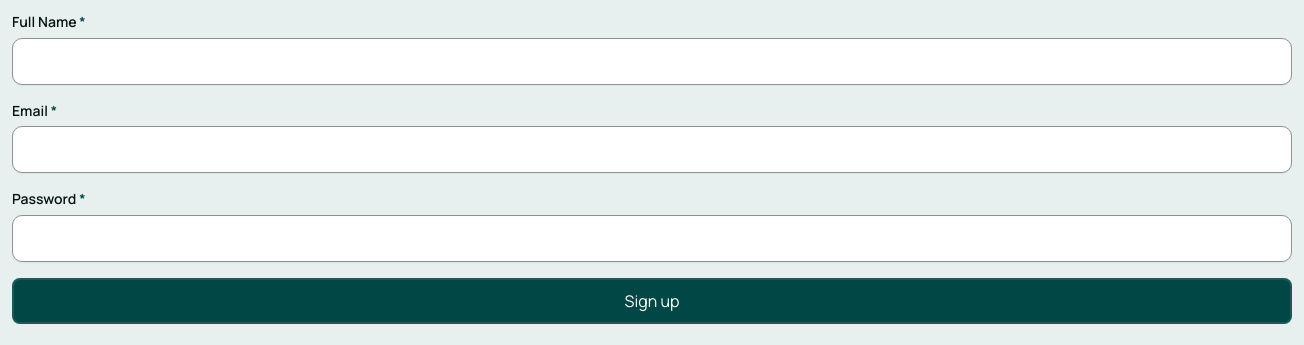
Test: SignUpForm › shows server error message when API fails with message
Type "John Doe" into the field labelled "Full Name *" at (652, 61), box left=12, top=38, right=1292, bottom=85
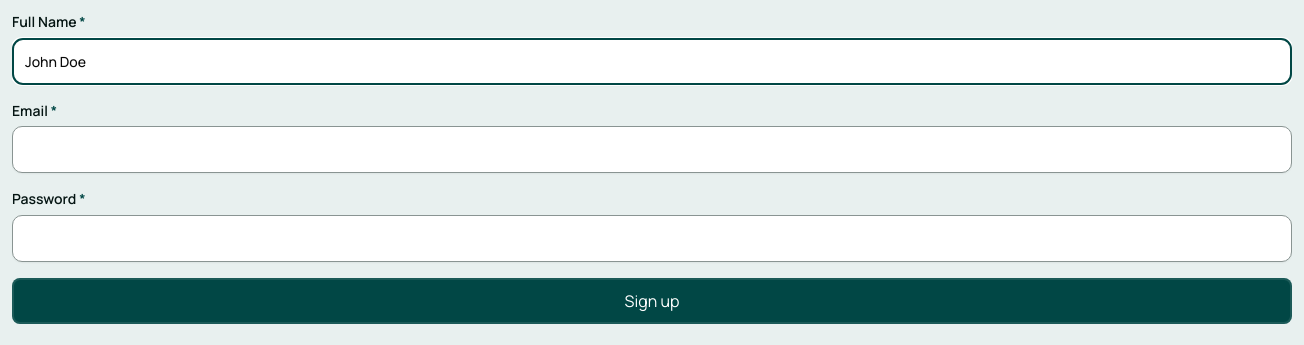
Type "john@example.com" into the field labelled "Email *" at (652, 150), box left=12, top=126, right=1292, bottom=173
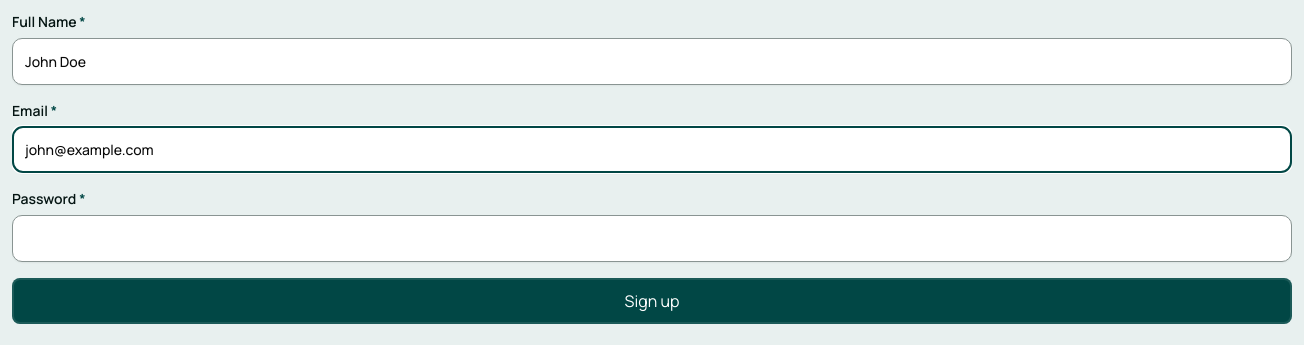
Type "StrongPass123" into the password field labelled "Password *" at (652, 238), box left=12, top=215, right=1292, bottom=262
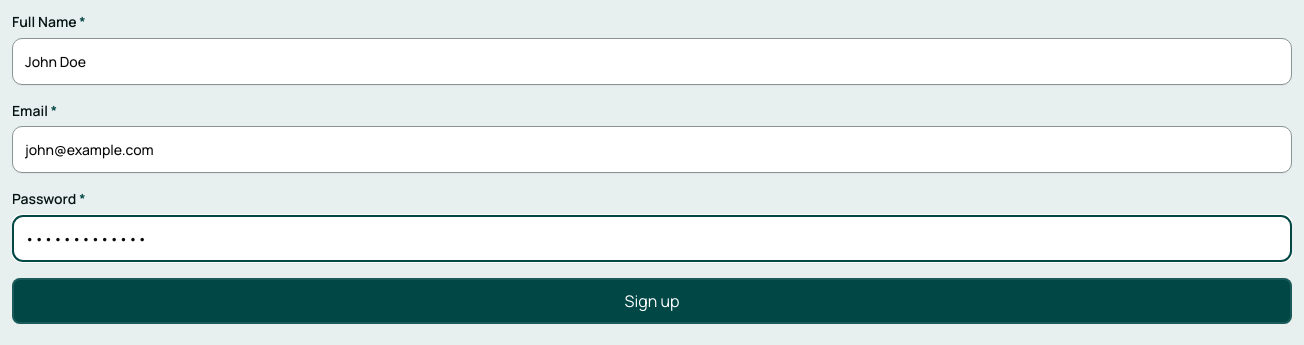
Click the button "Sign up" at (652, 301), box left=12, top=278, right=1292, bottom=324
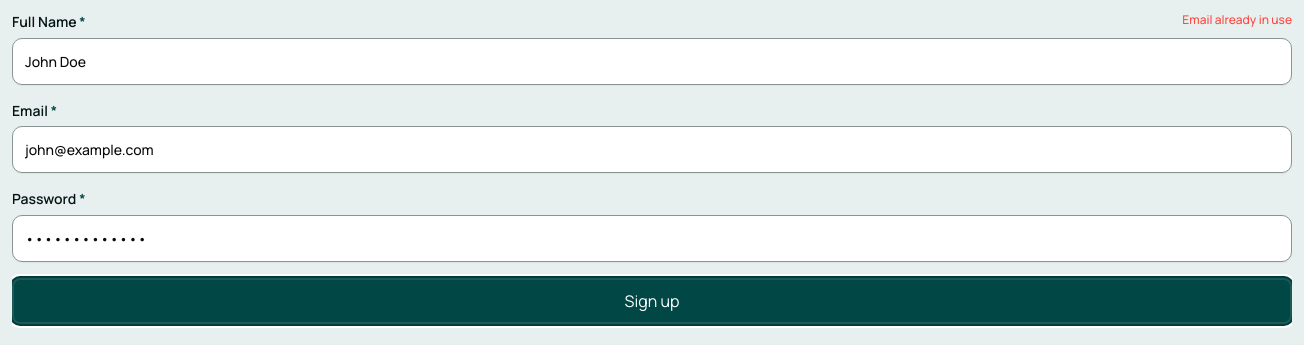
expect the message reads "Email already in use": met, box left=1182, top=11, right=1292, bottom=28
